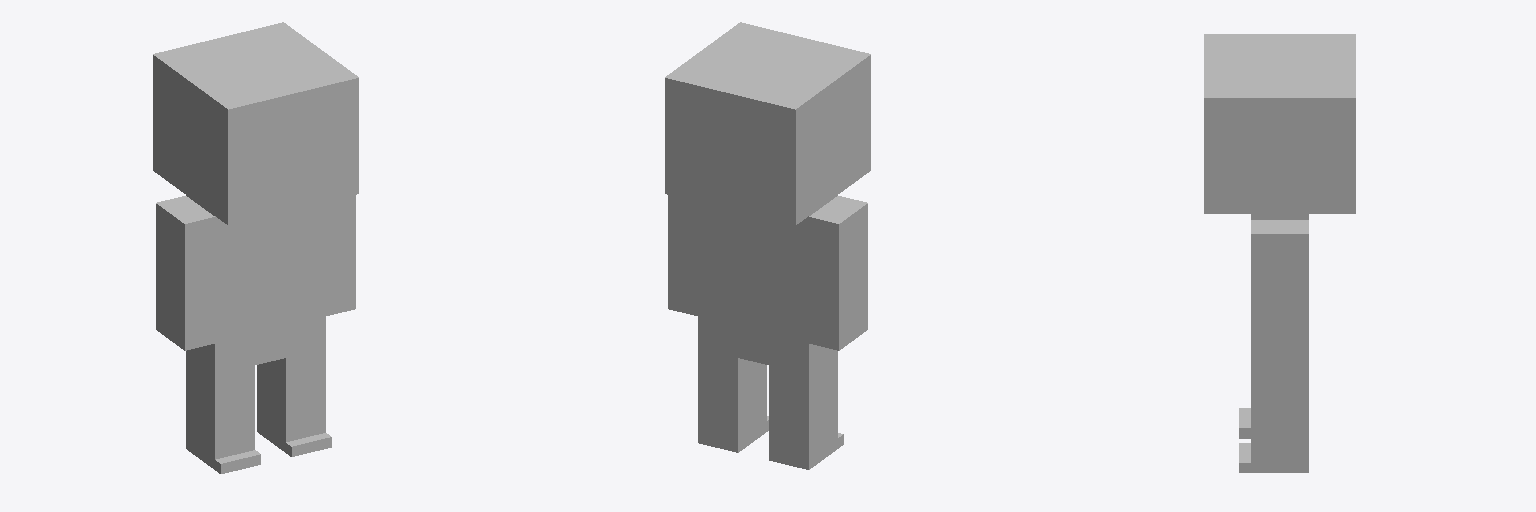
The model's file is zombie.obj.
3 renders of one model, left to right at view 1: azimuth 30°, elevation 25°; view 2: azimuth 150°, elevation 25°; view 3: azimuth 270°, elevation 25°, orthographic.
Parts seen in each view (by area): view 1: object 1; view 2: object 1; view 3: object 1.
Part boxes in pixels (x1,y1,x2,y2): object 1: (153,22,358,473); object 1: (665,22,870,469); object 1: (1204,34,1355,472).
Size of the model in its own units: 1.7 by 3.6 by 1.3.